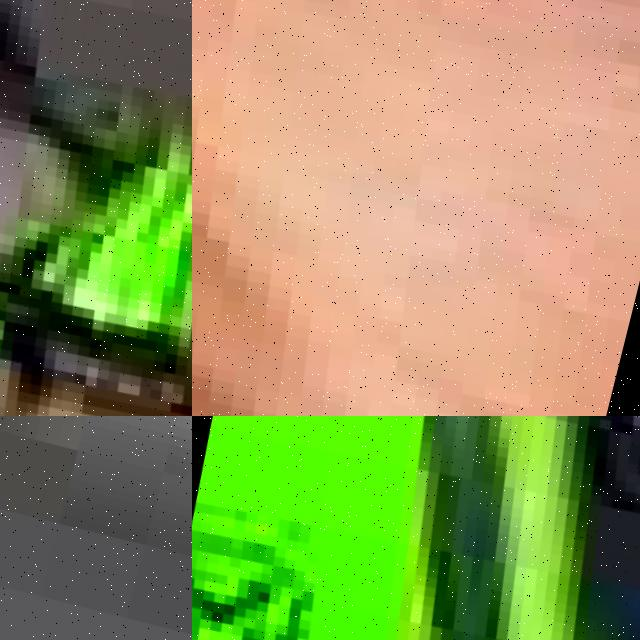0: (192, 416, 640, 640), (0, 0, 192, 416)
drone: (192, 0, 640, 416)
